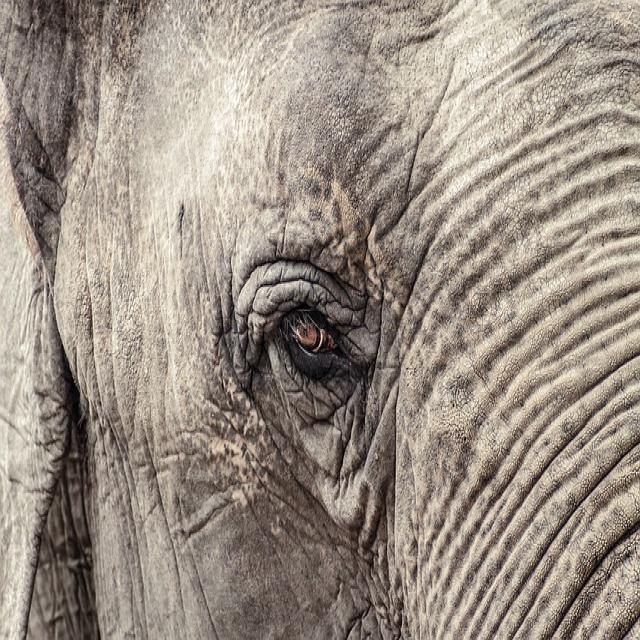elephant: (0, 4, 640, 638)
